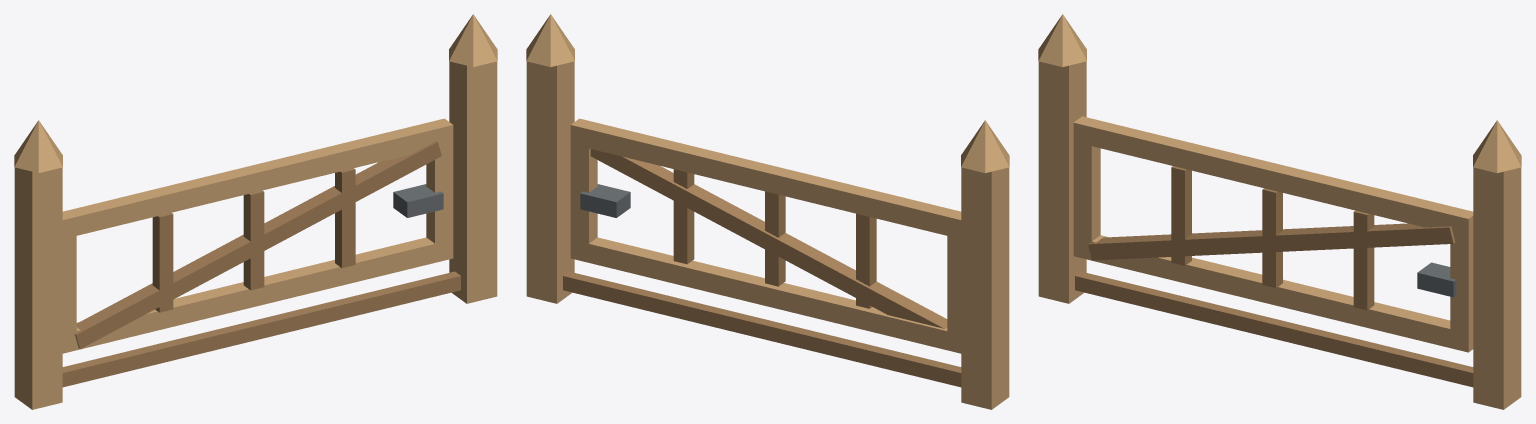
File: lists-fence-gate.glb
3 renders of one model, left to right at view 1: azimuth 30°, elevation 25°; view 2: azimuth 150°, elevation 25°; view 3: azimuth 330°, elevation 25°, orthographic.
Visible parts, largest first — view 1: lists-fence-gate, gate-leaf/oak, gate-leaf/timber, gate-leaf/iron; view 2: lists-fence-gate, gate-leaf/oak, gate-leaf/timber, gate-leaf/iron; view 3: lists-fence-gate, gate-leaf/oak, gate-leaf/timber, gate-leaf/iron.
Boxes of the visible parts, x1=… form: lists-fence-gate: x1=14, y1=14, x2=497, y2=409; gate-leaf/oak: x1=62, y1=118, x2=453, y2=353; gate-leaf/timber: x1=74, y1=140, x2=441, y2=349; gate-leaf/iron: x1=393, y1=184, x2=443, y2=217; lists-fence-gate: x1=526, y1=14, x2=1009, y2=409; gate-leaf/oak: x1=570, y1=118, x2=961, y2=353; gate-leaf/timber: x1=590, y1=149, x2=947, y2=328; gate-leaf/iron: x1=580, y1=184, x2=630, y2=217; lists-fence-gate: x1=1038, y1=14, x2=1521, y2=409; gate-leaf/oak: x1=1073, y1=116, x2=1473, y2=352; gate-leaf/timber: x1=1088, y1=166, x2=1455, y2=310; gate-leaf/iron: x1=1417, y1=262, x2=1456, y2=297.
Bounding box in the file's own units: 3.18 × 1.76 × 0.2772.
